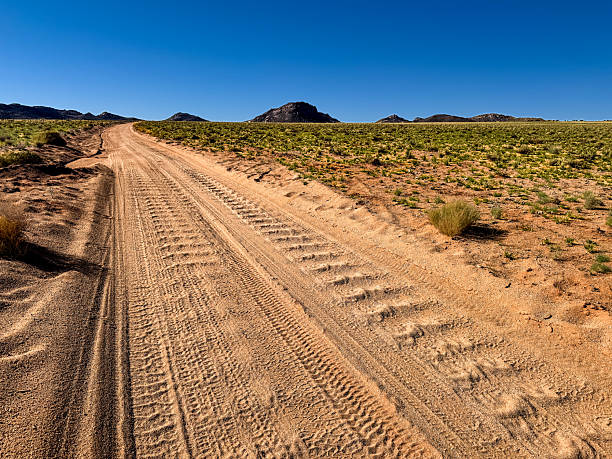vehicle_track: (153, 148, 608, 456), (113, 139, 436, 456)
